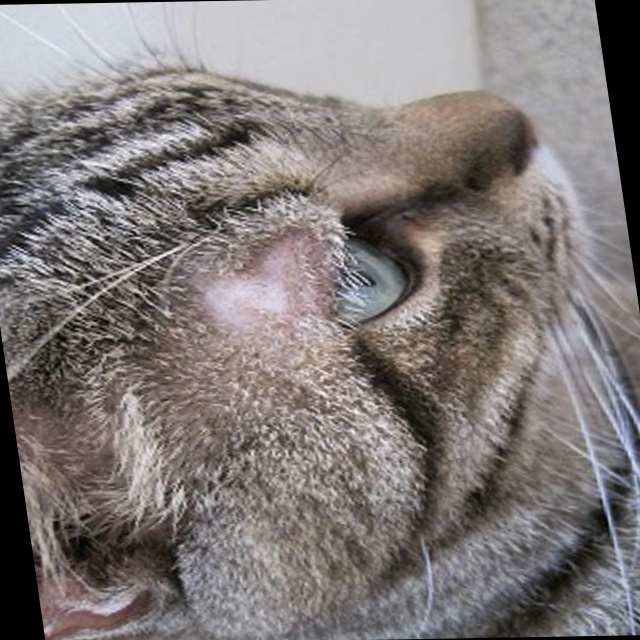hairloss: (188, 251, 306, 322)
